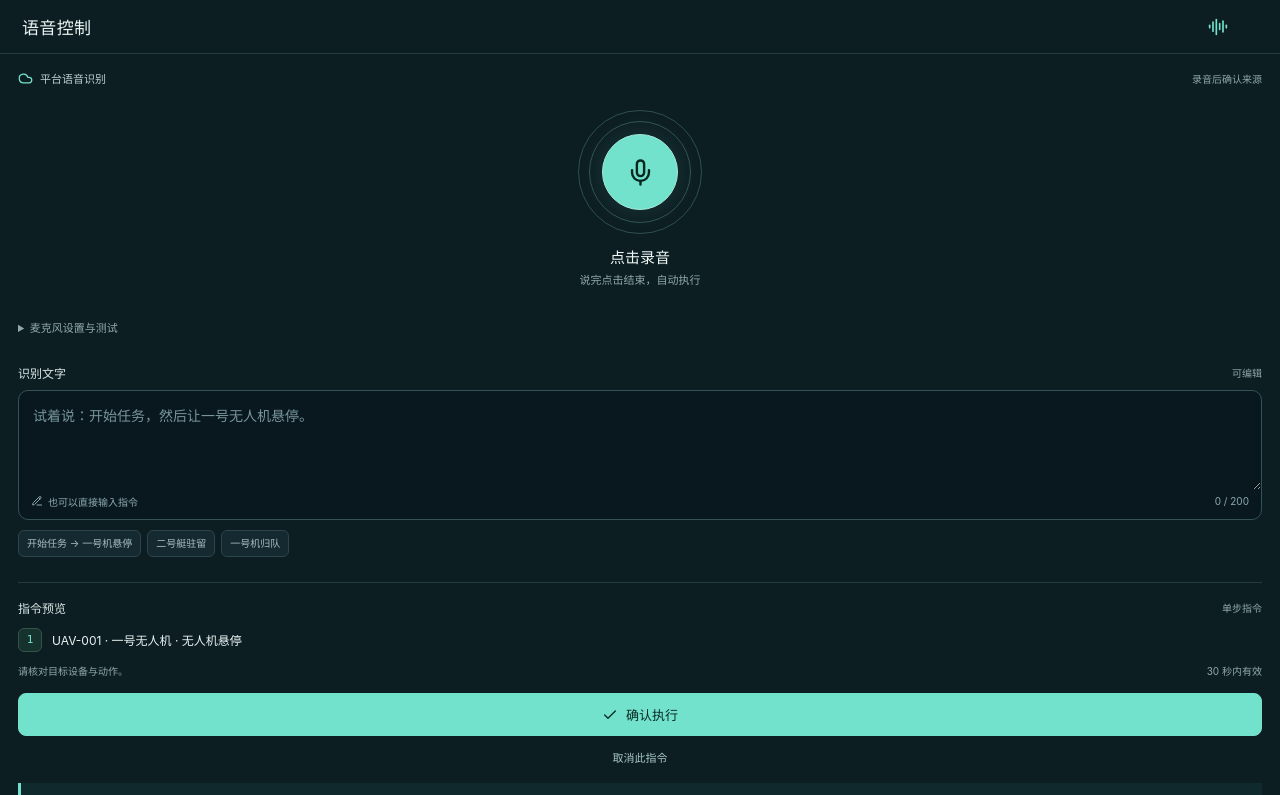
VoiceP0ControlPanel refined controls › invalidates a frozen plan when the actual editable transcript changes and preserves recovery data
Type "让二号无人机悬停" into the text box labelled "识别文字 可编辑 也可以直接输入指令 0 / 200" at point(640, 440), box [19,391,1261,490]
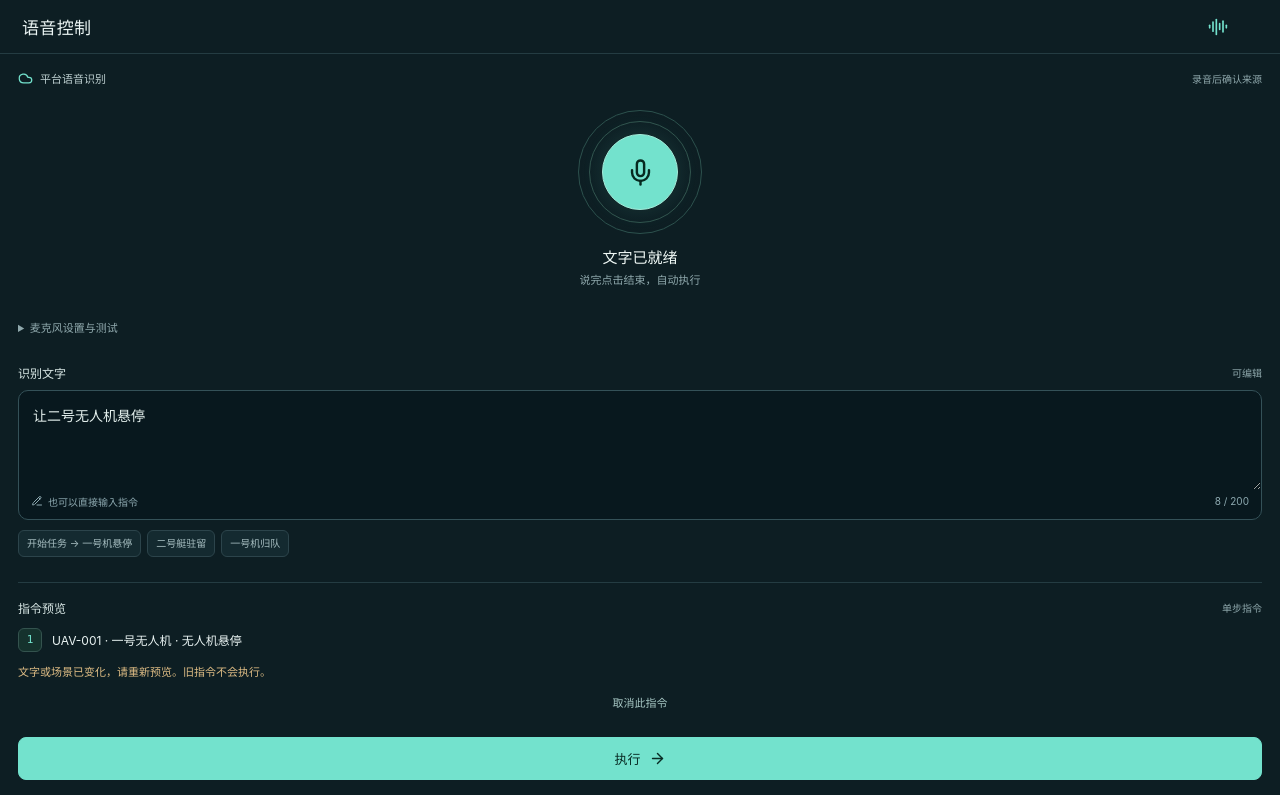
Expected: the text "旧指令不会执行" is shown, [18,665,271,679]
